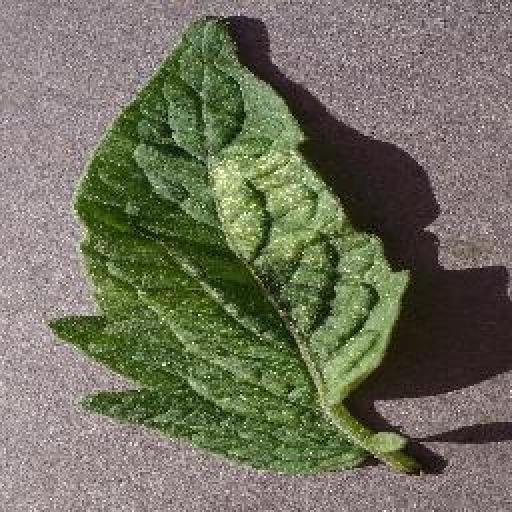Spider Mites: (50, 16, 410, 473)
